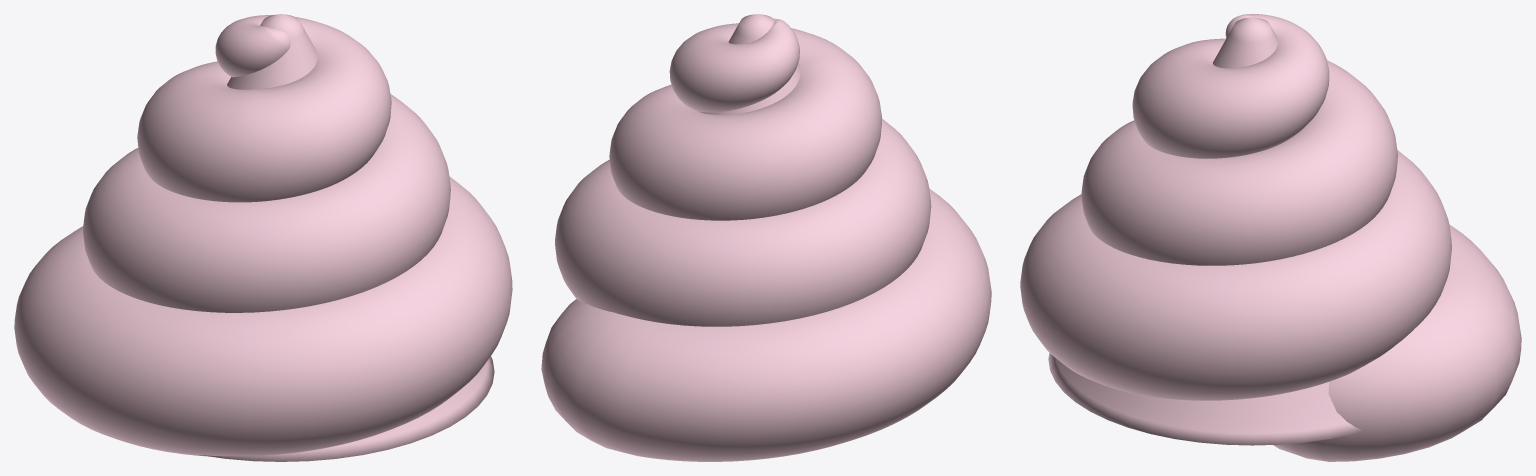
Rendered from cream.glb.
3 renders of one model, left to right at view 1: azimuth 30°, elevation 25°; view 2: azimuth 150°, elevation 25°; view 3: azimuth 270°, elevation 25°, orthographic. The views are drawn at different scales.
Visible parts, largest first — view 1: Cream_Swirl, Cream_Core; view 2: Cream_Swirl, Cream_Core; view 3: Cream_Swirl, Cream_Core.
Part boxes in pixels (left/top/right/bottom): Cream_Swirl: left=14, top=15, right=512, bottom=456; Cream_Core: left=200, top=14, right=494, bottom=461; Cream_Swirl: left=541, top=18, right=991, bottom=461; Cream_Core: left=699, top=14, right=800, bottom=114; Cream_Swirl: left=1020, top=14, right=1521, bottom=461; Cream_Core: left=1048, top=17, right=1363, bottom=445.
Bounding box in the file's own units: 0.1107 × 0.108 × 0.1195.
